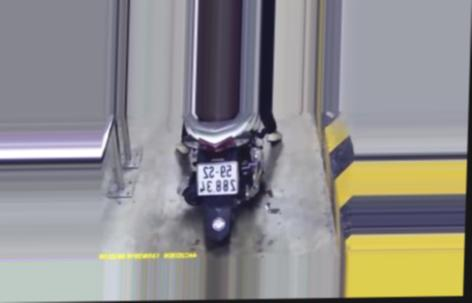License_Plate: (193, 158, 242, 198)
